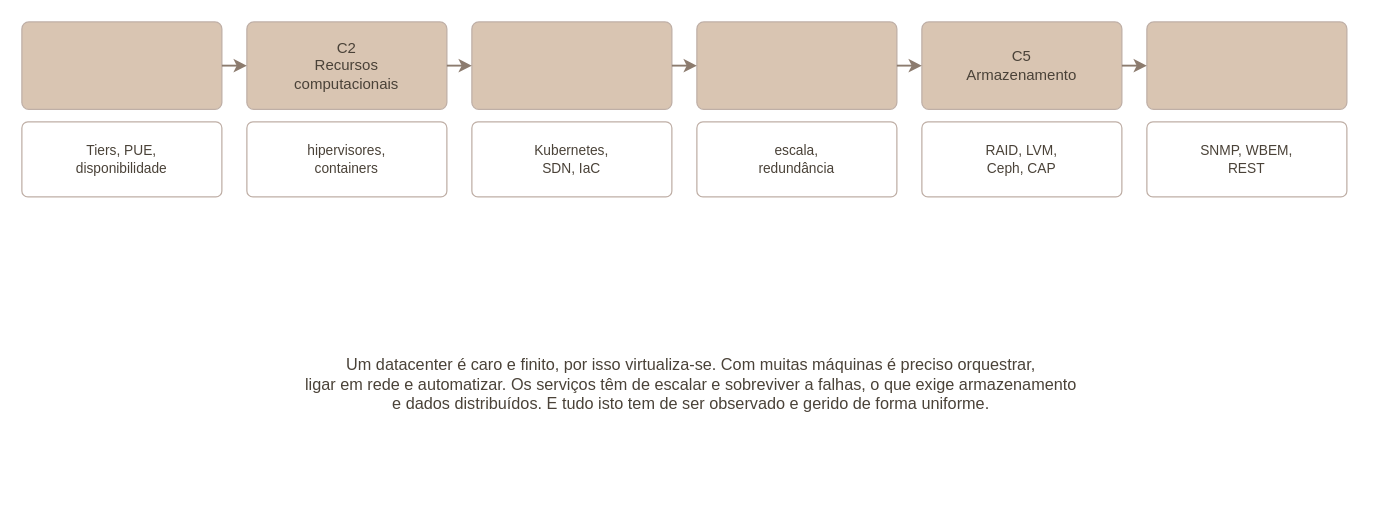
This 1381x531 diagram has some shape labels left out. Here are the shapes that lost their labels. From the top down, the centre of each, then its label:
At (x=121, y=65): "C1 Datacenters".
At (x=571, y=65): "C3 Administração de recursos".
At (x=796, y=65): "C4 Fornecimento de serviços".
At (x=1246, y=65): "C6 Administração de sistemas".
